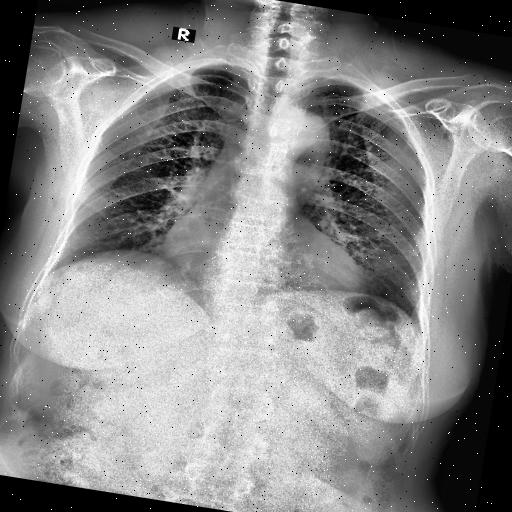0- Aortic enlargement: (254, 104, 333, 166), (263, 101, 330, 170), (263, 104, 335, 161)
3- Cardiomegaly: (158, 204, 368, 301), (156, 226, 370, 300)
